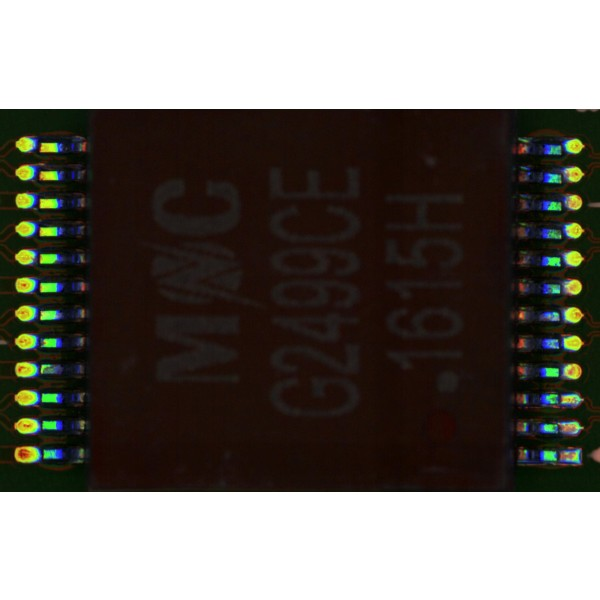Bad_podu: (552, 451, 572, 461), (553, 396, 571, 404), (553, 424, 571, 432)
